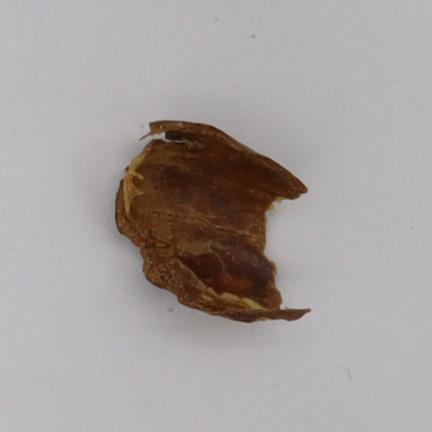husk: (116, 120, 309, 321)
